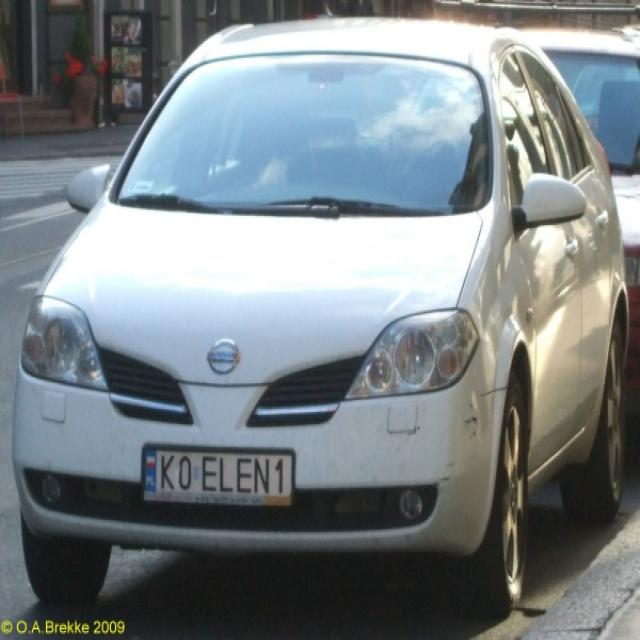pl_license_plate: (144, 445, 290, 491)
